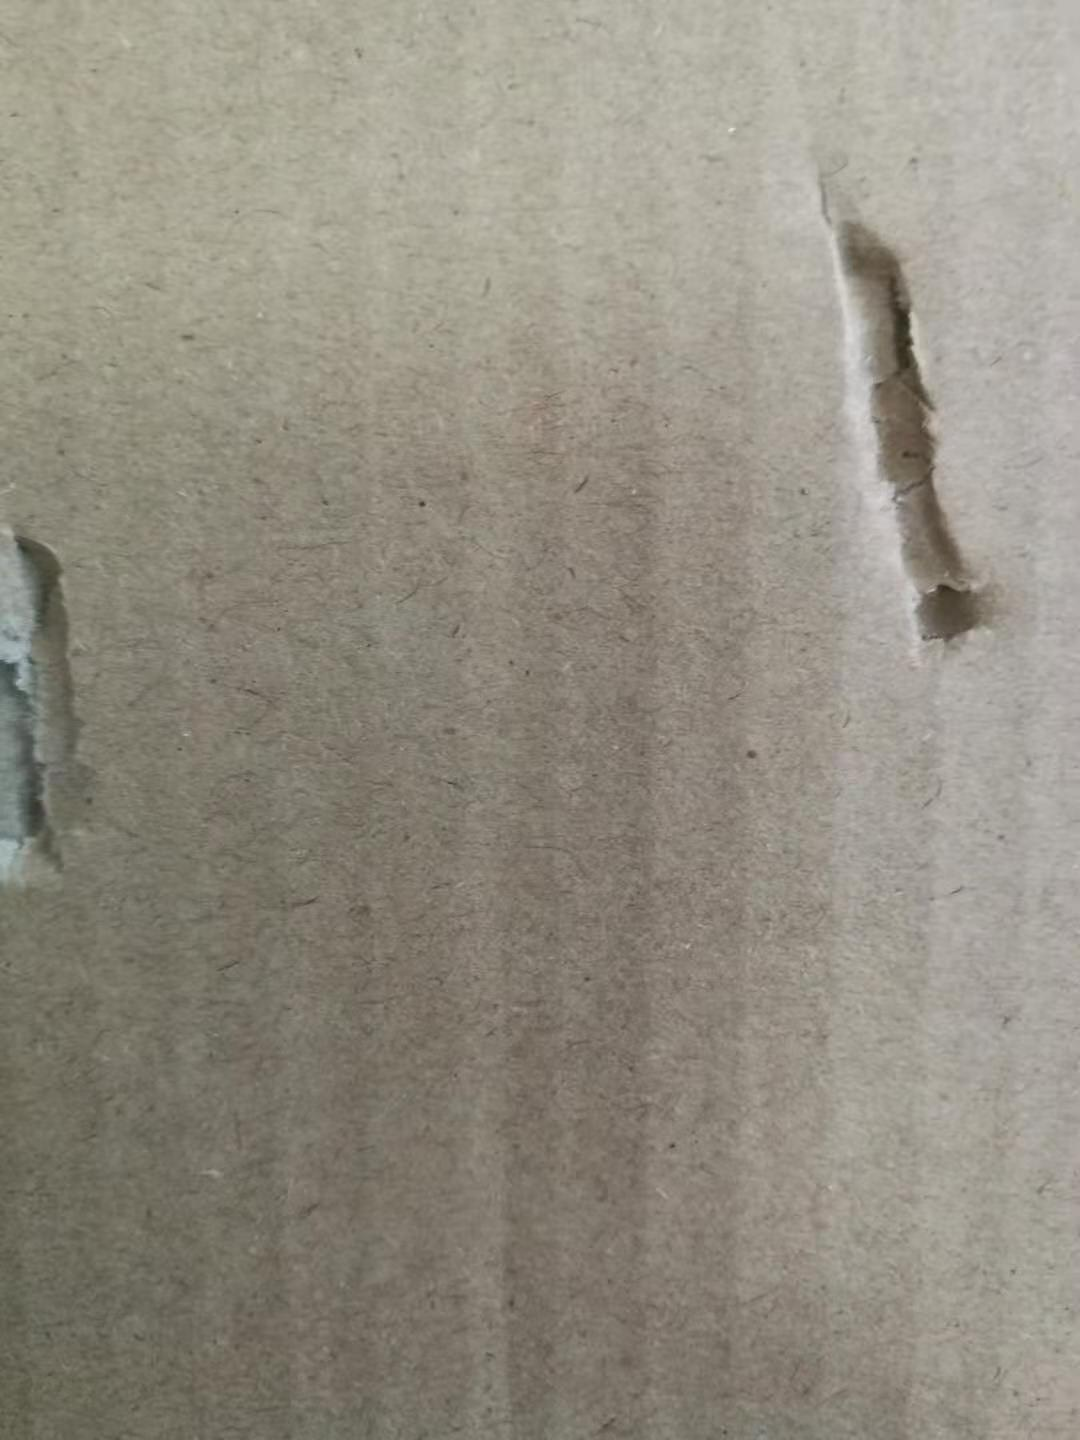defect: (773, 63, 1022, 684), (1, 478, 168, 933)
